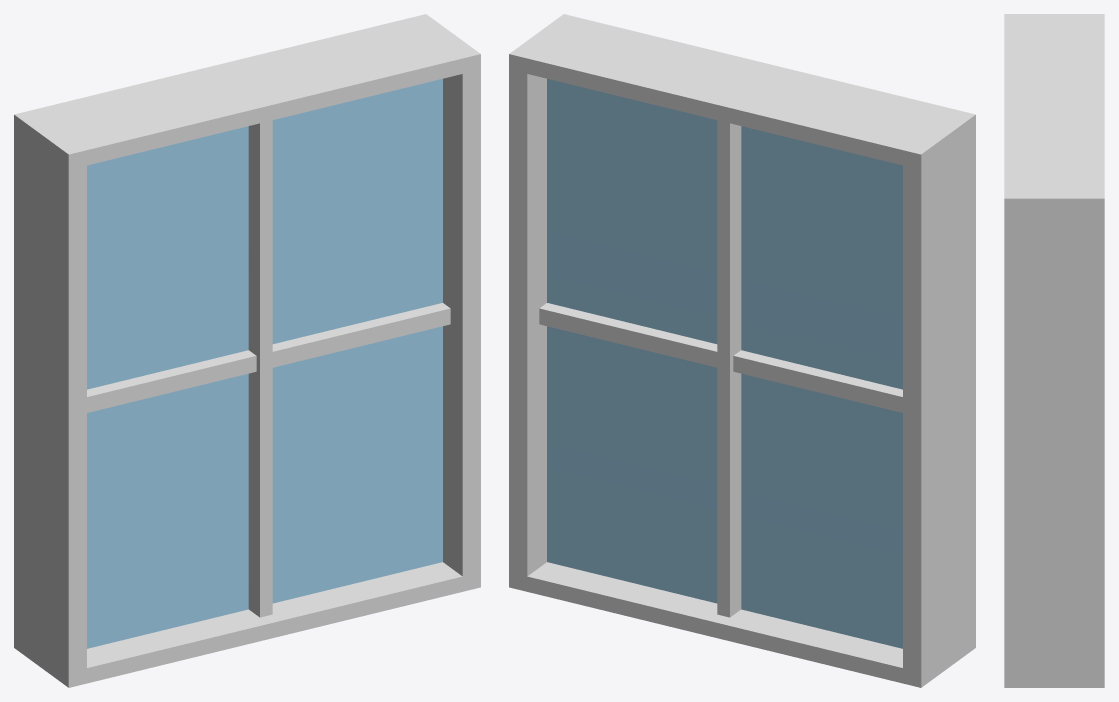
Rendered from window_003.fbx.
3 renders of one model, left to right at view 1: azimuth 30°, elevation 25°; view 2: azimuth 150°, elevation 25°; view 3: azimuth 270°, elevation 25°, orthographic. The views are drawn at different scales.
Visible parts, largest first — view 1: window_003; view 2: window_003; view 3: window_003.
Part boxes in pixels (x1,y1,x2,y2): window_003: (14,14,480,687); window_003: (509,14,975,687); window_003: (1004,14,1104,687).
Bounding box in the file's own units: 161 × 37 × 199.
